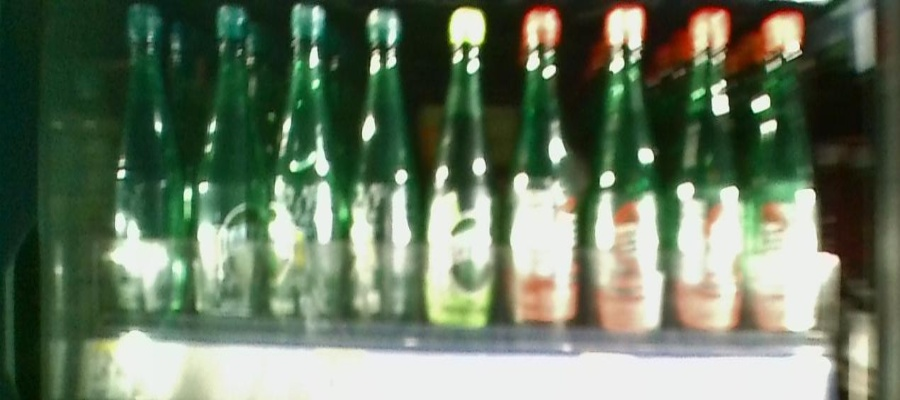bottle: (589, 2, 670, 350), (507, 7, 582, 349), (427, 2, 499, 346), (678, 4, 746, 352), (270, 6, 342, 334), (113, 1, 186, 312), (753, 9, 823, 330), (196, 7, 264, 324), (349, 17, 417, 332)
